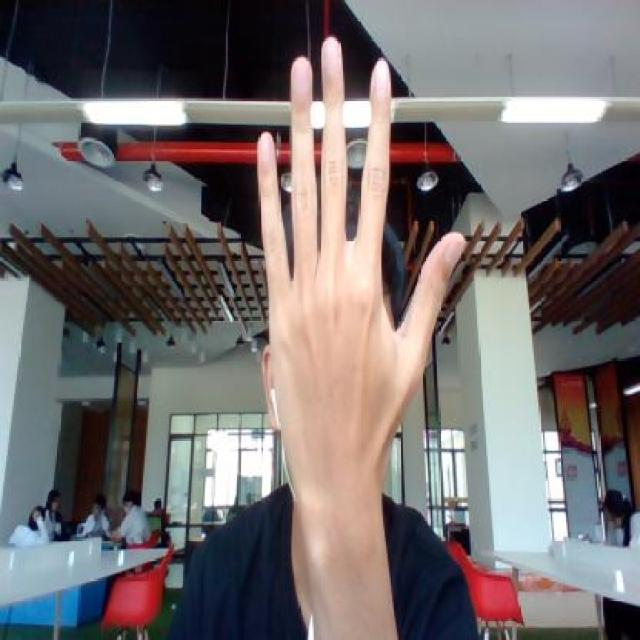Scissors: (233, 39, 503, 455)
